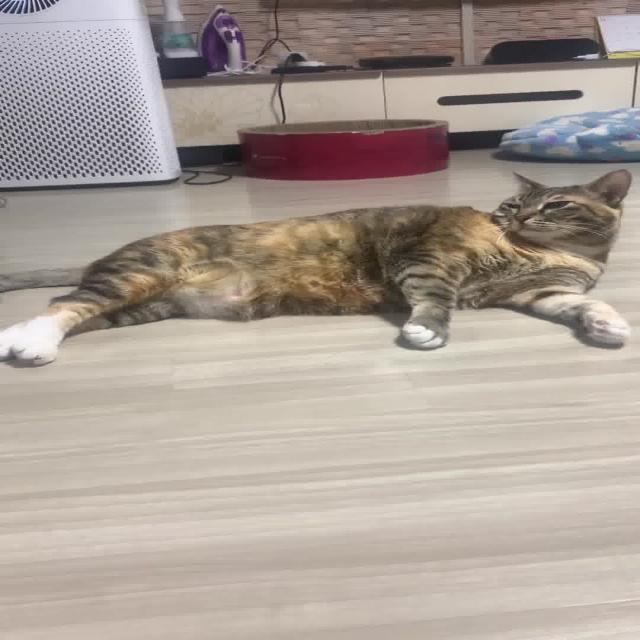cat: (0, 158, 640, 372)
